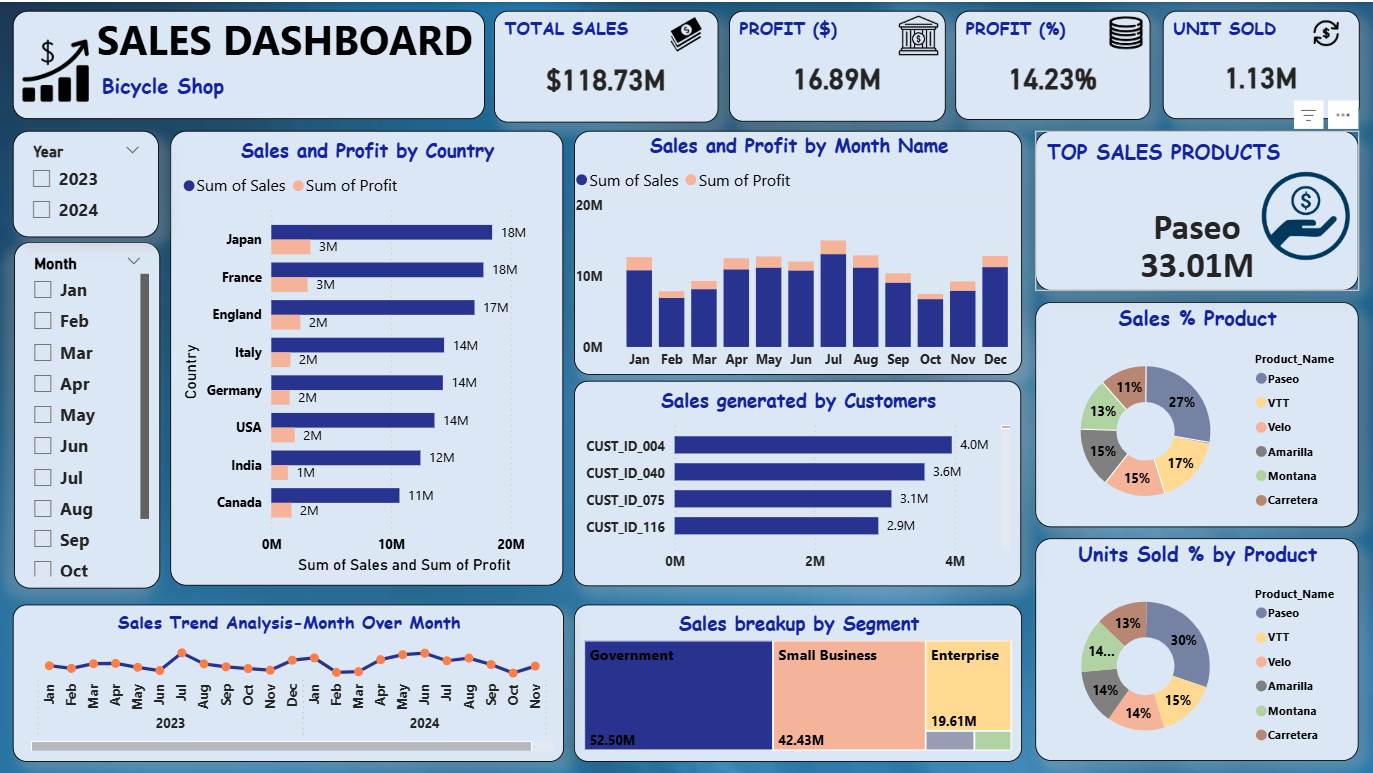

Layout of this report page (visuals, bound fields, positions):
{"tool":"powerbi","page":{"name":"Page 2","canvas":[1280,720],"ordinal":1},"visuals":[{"type":"card","title":"TOTAL SALES","fields":{"Values":["Sum(Sales Data.Sales)"]},"box":[460.1,8.6,208.6,104.3],"z":0},{"type":"card","title":"PROFIT ($)","fields":{"Values":["Sum(Sales Data.Profit)"]},"box":[678.5,8.6,201.2,103.1],"z":1000},{"type":"card","title":"PROFIT (%)","fields":{"Values":["Sales Data.Sum of Profit divided by Sum of Sales"]},"box":[889.6,8.6,181.6,101.8],"z":2000},{"type":"card","title":"UNIT SOLD","fields":{"Values":["Sum(Sales Data.Units Sold)"]},"box":[1082.2,8.6,182.8,100.6],"z":3000},{"type":"donutChart","title":"Sales % Product","fields":{"Category":["Sales Data.Product_Name"],"Y":["Sum(Sales Data.Sales)","Sum(Sales Data.Year)"]},"box":[964.4,278.5,300.6,209.8],"z":4000},{"type":"pieChart","title":"Units Sold % by Product","fields":{"Y":["Sum(Sales Data.Units Sold)"],"Category":["Sales Data.Product_Name"]},"box":[964.4,499.4,300.6,207.4],"z":5000},{"type":"clusteredBarChart","title":"Sales and Profit by Country","fields":{"Y":["Sum(Sales Data.Sales)","Sum(Sales Data.Profit)"],"Category":["Sales Data.Country"]},"box":[159.5,120.2,365.6,423.3],"z":6000},{"type":"columnChart","title":"Sales and Profit by Month Name","fields":{"Category":["Sales Data.Month Name"],"Y":["Sum(Sales Data.Sales)","Sum(Sales Data.Profit)"]},"box":[535,120.2,417.2,227],"z":7000},{"type":"clusteredBarChart","title":"Sales generated by Customers","fields":{"Y":["Sum(Sales Data.Sales)"],"Category":["Sales Data.Customer_ID"]},"box":[535,352.1,416,191.4],"z":8000},{"type":"treemap","title":"Sales breakup by Segment","fields":{"Values":["Sum(Sales Data.Sales)"],"Group":["Sales Data.Segment"]},"box":[535,560.7,417.2,146],"z":9000},{"type":"slicer","fields":{"Values":["Sales Data.Month Name"]},"box":[13.5,223.3,136.2,322.7],"z":10000},{"type":"slicer","fields":{"Values":["Sales Data.Year"]},"box":[12.3,120.2,136.2,99.4],"z":11000},{"type":"lineChart","title":"Sales Trend Analysis-Month Over Month","fields":{"Y":["Sum(Sales Data.Sales)"],"Category":["Sales Data.Date.Variation.Date Hierarchy.Year","Sales Data.Month Name"]},"box":[12.3,560.7,512.9,146],"z":12000},{"type":"textbox","box":[12.3,8.6,439.3,100.6],"z":13000},{"type":"card","title":"TOP SALES PRODUCTS","fields":{"Values":["Min(Sales Data.Product_Name)"]},"box":[964.4,120.2,300.6,148.5],"z":14000},{"type":"image","box":[13.5,13.5,77.3,98.2],"z":15000},{"type":"image","box":[586.5,11,106.7,39.3],"z":16000},{"type":"image","box":[831.9,12.3,47.9,36.8],"z":17000},{"type":"image","box":[1025.8,7.4,45.4,42.9],"z":18000},{"type":"image","box":[1202.5,8.6,62.6,40.5],"z":19000},{"type":"textbox","box":[90.8,58.9,141.1,38],"z":20000},{"type":"card","title":"TOP SALES PRODUCTS","fields":{"Values":["Sum(Sales Data.Sales)"]},"box":[997.6,208.6,234.4,69.9],"z":21000},{"type":"image","box":[1174.2,154.6,82.2,89.6],"z":22000}]}

Visuals, with their boxes in screenshot pixels (x1, y1, x2, y2), scaled from the page's 1280x720 canvas onto the 1373x773 screenshot:
"TOTAL SALES" card: [494,9,717,121]
"PROFIT ($)" card: [728,9,944,120]
"PROFIT (%)" card: [954,9,1149,119]
"UNIT SOLD" card: [1161,9,1357,117]
"Sales % Product" donutChart: [1034,299,1357,524]
"Units Sold % by Product" pieChart: [1034,536,1357,759]
"Sales and Profit by Country" clusteredBarChart: [171,129,563,584]
"Sales and Profit by Month Name" columnChart: [574,129,1021,373]
"Sales generated by Customers" clusteredBarChart: [574,378,1020,584]
"Sales breakup by Segment" treemap: [574,602,1021,759]
slicer - Sales Data.Month Name: [14,240,161,586]
slicer - Sales Data.Year: [13,129,159,236]
"Sales Trend Analysis-Month Over Month" lineChart: [13,602,563,759]
textbox: [13,9,484,117]
"TOP SALES PRODUCTS" card: [1034,129,1357,288]
image: [14,14,97,120]
image: [629,12,744,54]
image: [892,13,944,53]
image: [1100,8,1149,54]
image: [1290,9,1357,53]
textbox: [97,63,249,104]
"TOP SALES PRODUCTS" card: [1070,224,1322,299]
image: [1260,166,1348,262]
